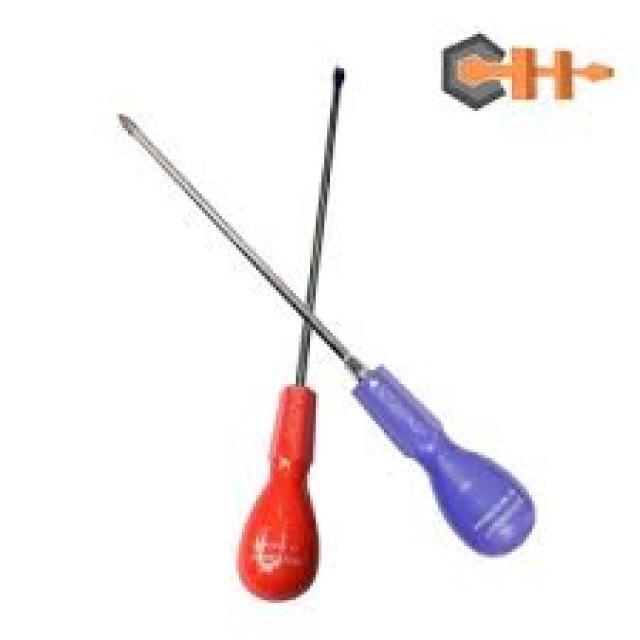screwdriver: (101, 101, 536, 562), (226, 61, 349, 607)
